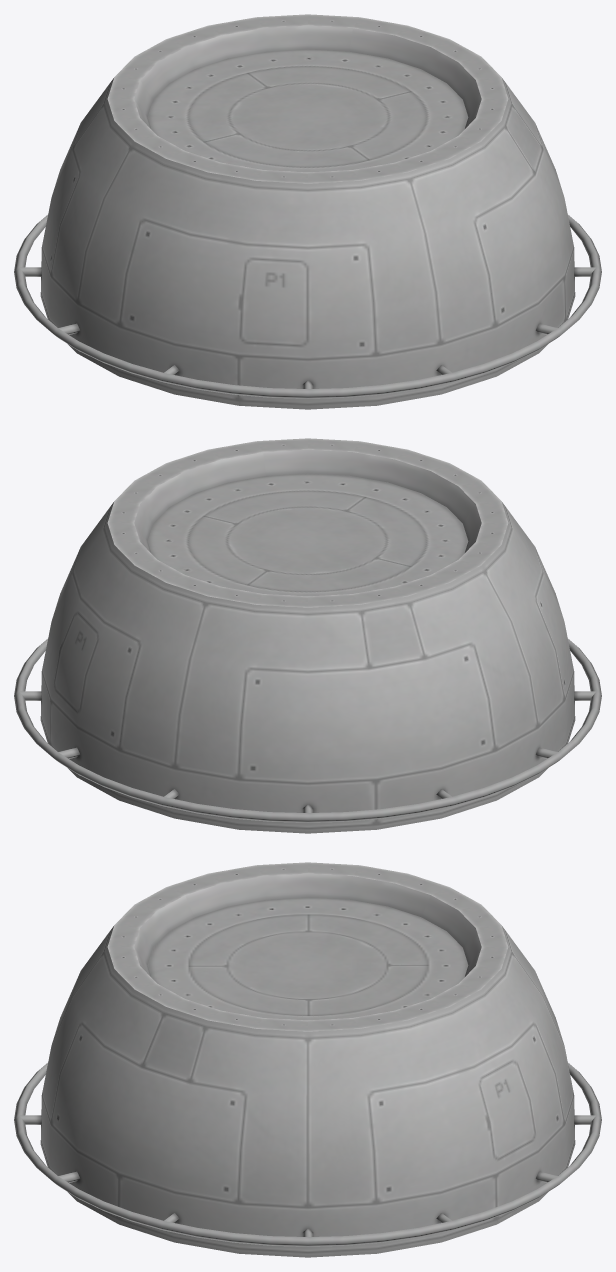
The model's file is Hadar_Mount_1_1.obj.
The picture shows the model from 3 angles, top to bottom: view 1: azimuth 30°, elevation 25°; view 2: azimuth 150°, elevation 25°; view 3: azimuth 270°, elevation 25°; orthographic projection.
Parts seen in each view (by area): view 1: Hadar_Mount_1_1; view 2: Hadar_Mount_1_1; view 3: Hadar_Mount_1_1.
Part boxes in pixels (x1=…): Hadar_Mount_1_1: x1=14, y1=14, x2=601, y2=409; Hadar_Mount_1_1: x1=14, y1=438, x2=601, y2=833; Hadar_Mount_1_1: x1=14, y1=862, x2=601, y2=1257.
Bounding box in the file's own units: 1.38 × 0.51 × 1.38.
